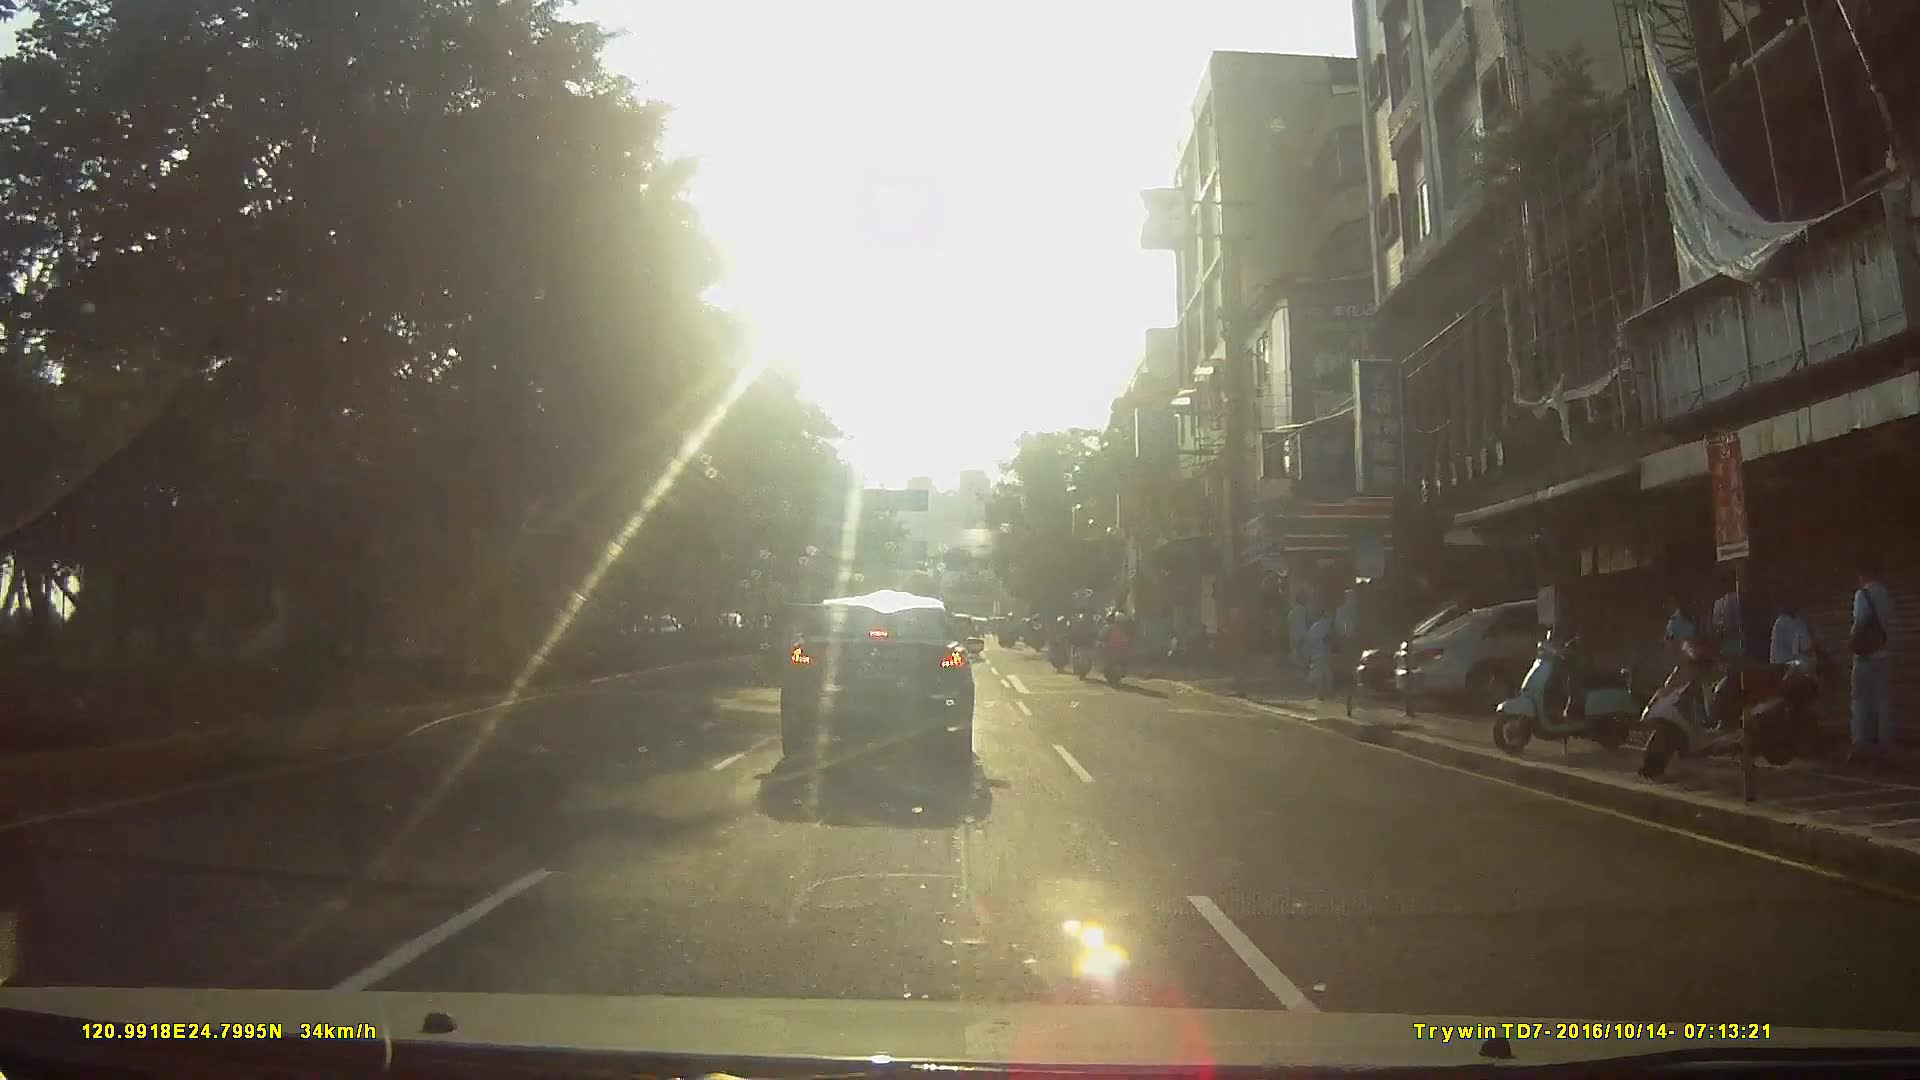pedestrian: (1847, 551, 1914, 778), (1708, 560, 1762, 743), (1770, 586, 1820, 739), (1667, 578, 1710, 723), (1304, 603, 1348, 702)
rider: (1099, 613, 1137, 693), (1068, 610, 1095, 685), (1047, 618, 1073, 679)
vehicle: (761, 584, 995, 781), (1392, 593, 1727, 714)
